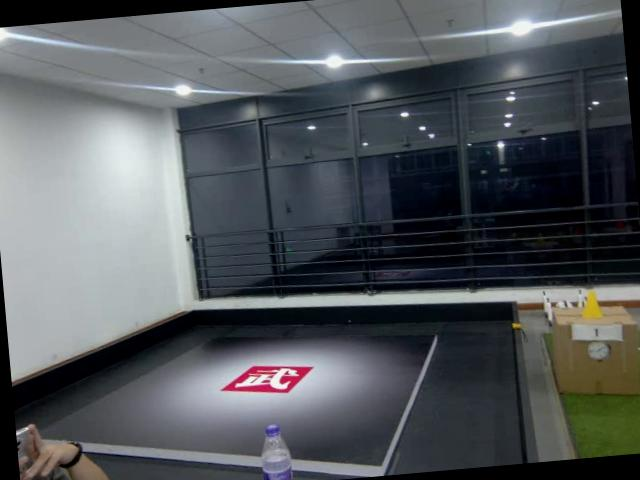yellow_barrel: (576, 290, 609, 318)
